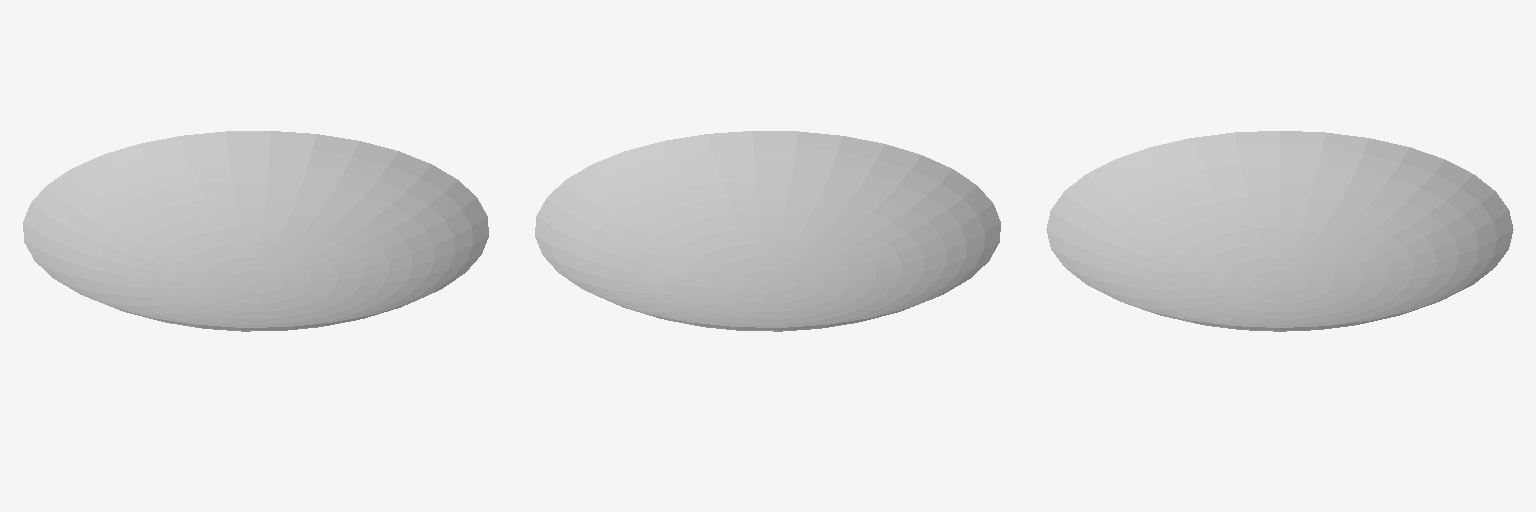
File: ground.obj
3 views of the same model, side by side, from view 1: azimuth 30°, elevation 25°; view 2: azimuth 150°, elevation 25°; view 3: azimuth 270°, elevation 25° (orthographic).
Visible parts, largest first — view 1: ground_Sphere; view 2: ground_Sphere; view 3: ground_Sphere.
Boxes of the visible parts, box(x1,y1,x2,y2) form: ground_Sphere: box(23, 131, 488, 331); ground_Sphere: box(535, 131, 1000, 331); ground_Sphere: box(1046, 131, 1513, 331).
Size of the model in its own units: 170 by 21.37 by 170.